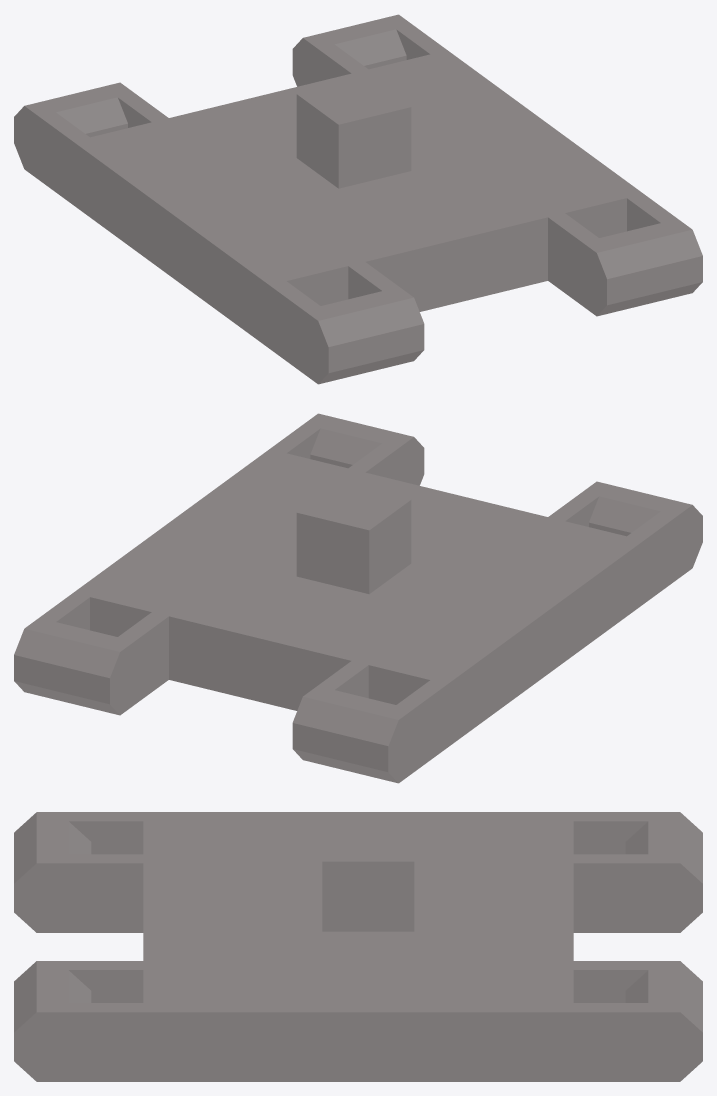
The model's file is excavator-chassis.glb.
3 views of the same model, one above another, from view 1: azimuth 30°, elevation 25°; view 2: azimuth 150°, elevation 25°; view 3: azimuth 270°, elevation 25° (orthographic). The views are drawn at different scales.
Parts seen in each view (by area): view 1: excavator-chassis; view 2: excavator-chassis; view 3: excavator-chassis.
Boxes of the visible parts, x1,y1,x2,y2 form: excavator-chassis: (14, 14, 702, 384); excavator-chassis: (14, 413, 702, 783); excavator-chassis: (14, 812, 702, 1081).
Size of the model in its own units: 3.08 by 1 by 4.48.
Materials: 1 (1 with a texture image).
